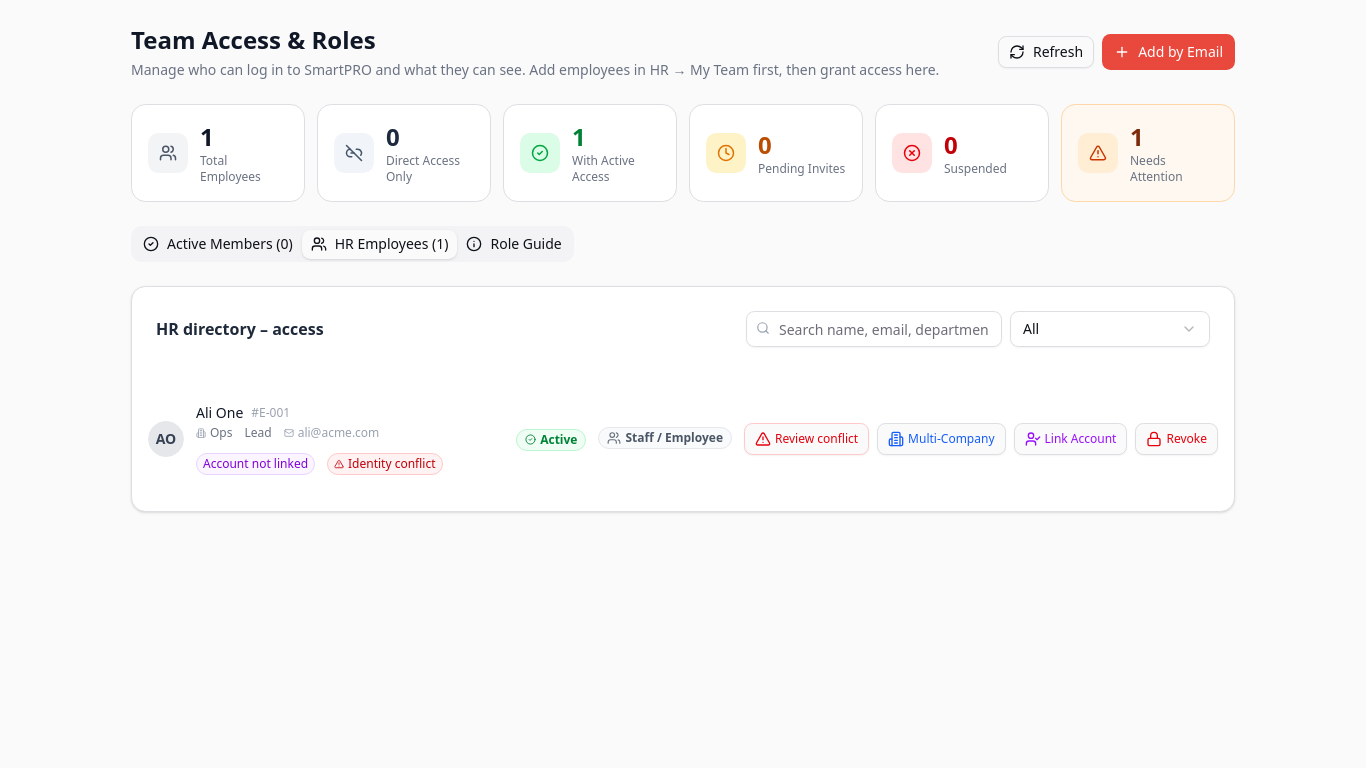
Test: TeamAccessPage canonical rendering parity › shows identity conflict chip and opens review dialog with guidance
The width and height of the screenshot is (1366, 768).
Check: the text "Identity conflict" is shown, box [327,453,442,475]
Click the button "Review conflict": coordinates (807, 439) [744,423,869,455]
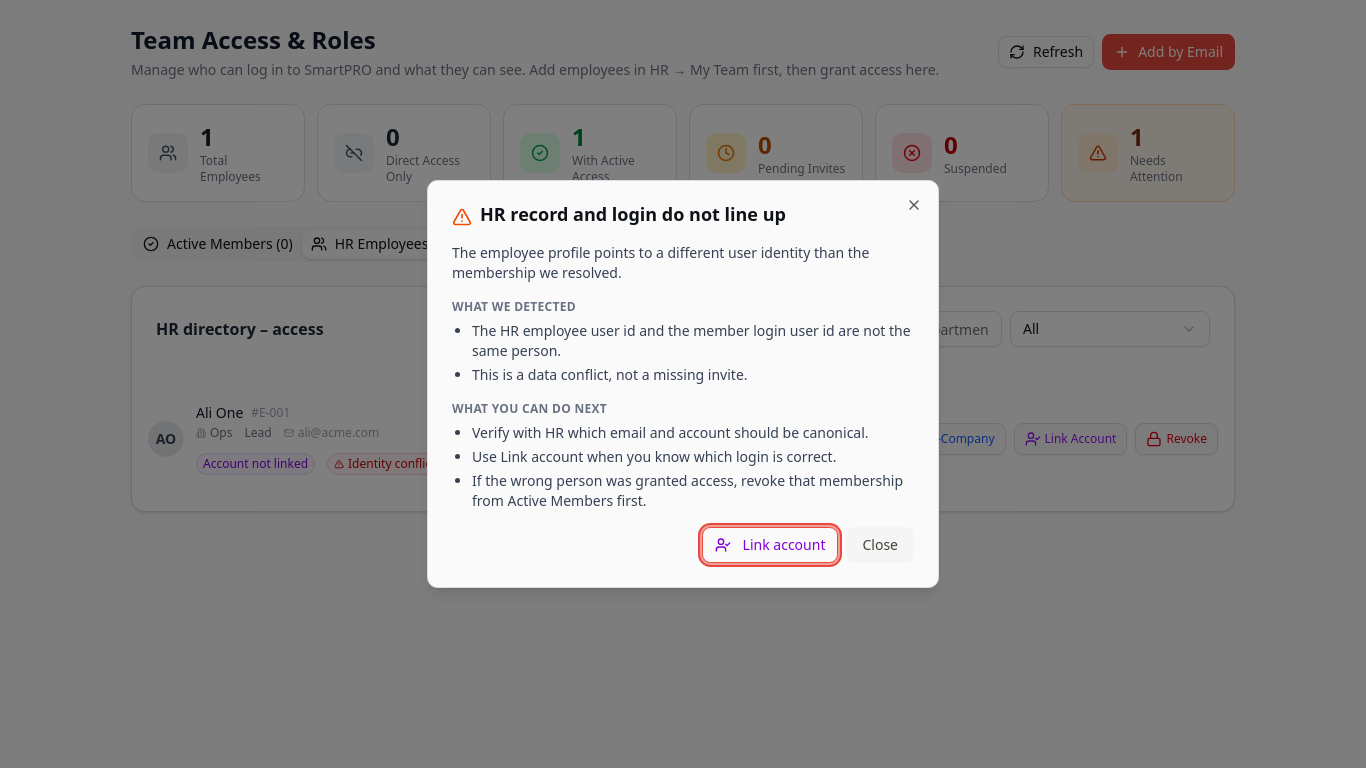
Check: the dialog is shown, box [427,180,939,588]
Check: the heading "HR record and login do not line up" is shown, box [452,202,786,227]
